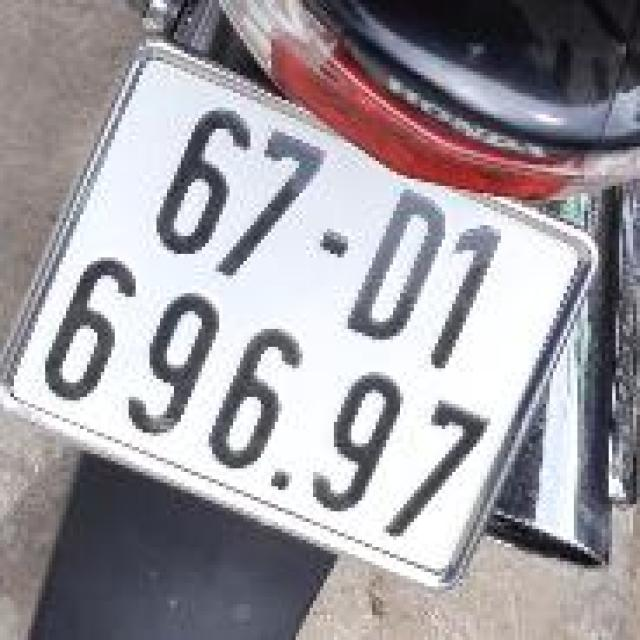1: (409, 206, 525, 386)
6: (33, 238, 155, 418), (193, 315, 317, 488), (143, 95, 263, 272)
7: (202, 118, 343, 300), (367, 386, 506, 561)
9: (294, 358, 418, 529), (115, 279, 237, 452)
D: (332, 177, 468, 359)
